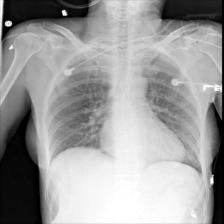normal: (45, 38, 206, 180)
